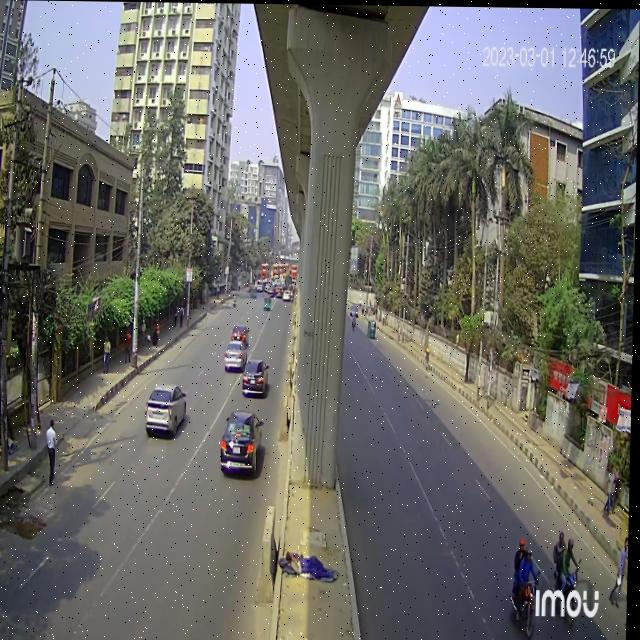cng: (367, 314, 381, 342), (264, 291, 274, 313)
